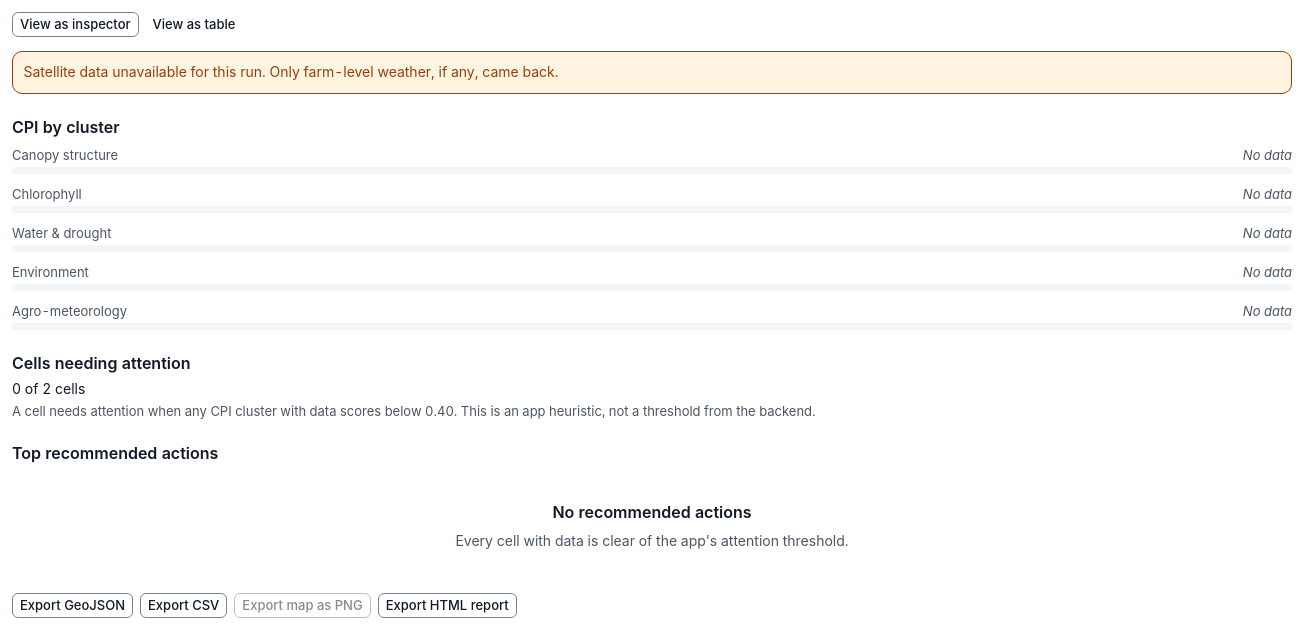
Test: ResultsPanel › toggles between the inspector and the table view
Click the button "View as table": (194, 24) [146,12,242,36]
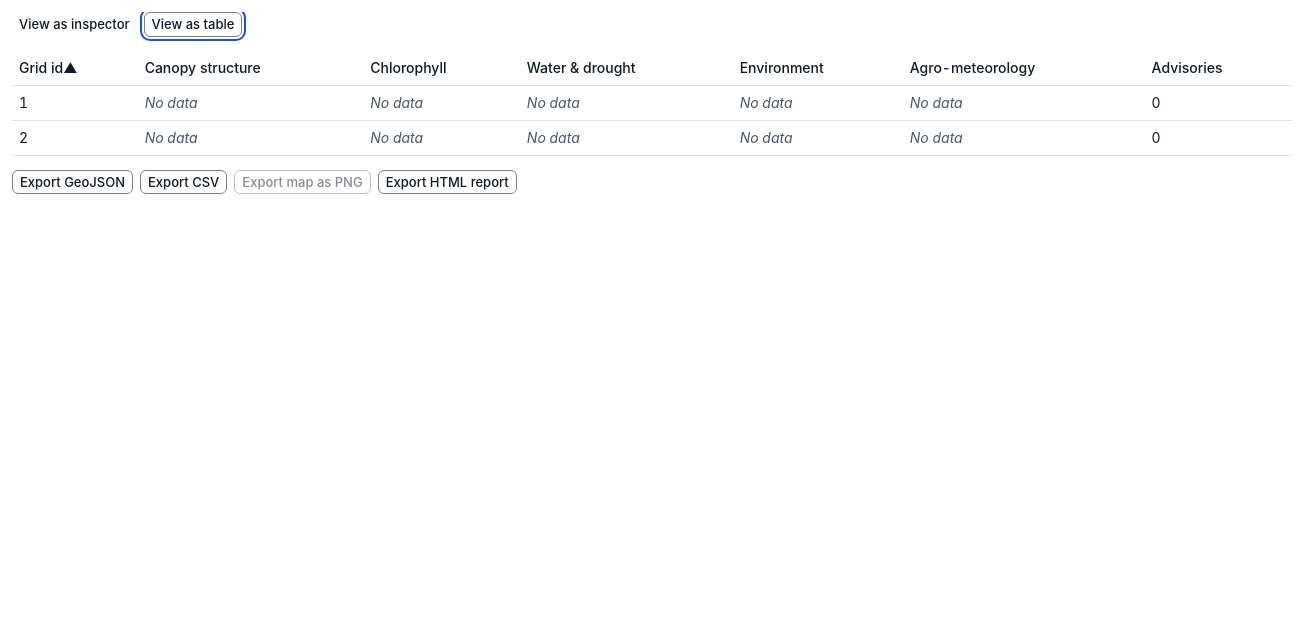
Check: the table named "cells" is shown, box [12,50,1292,156]
Click the button "View as inspector": (74, 24) [12,12,136,36]
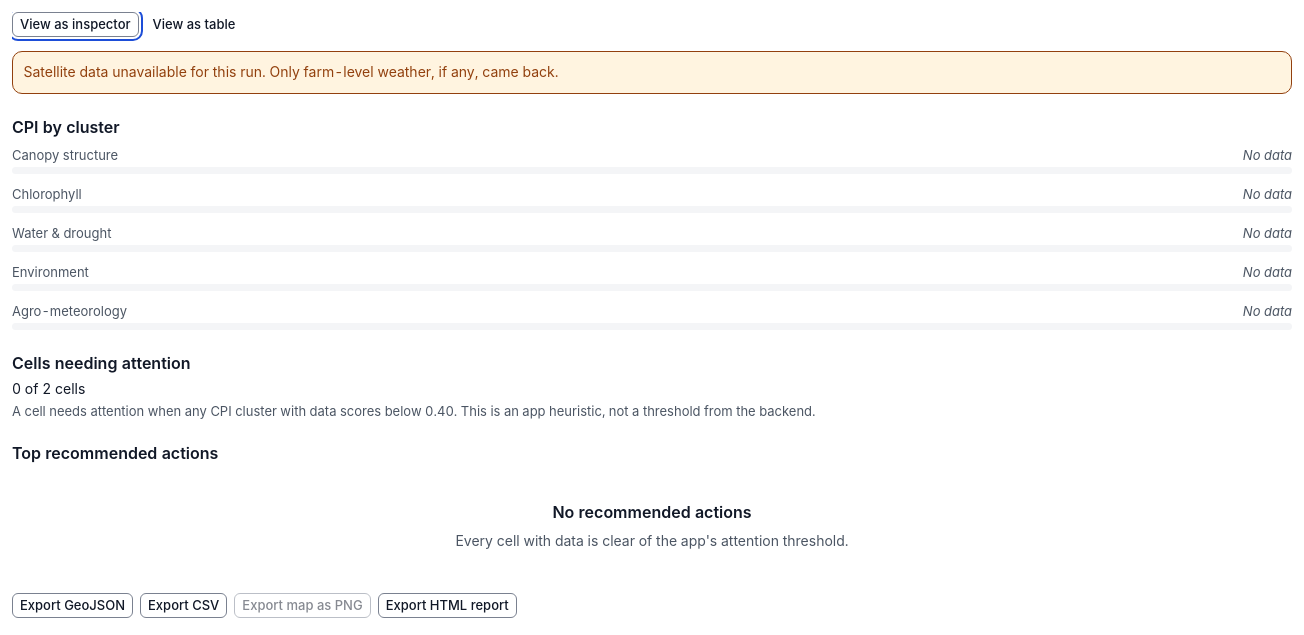
Check: the table is gone
